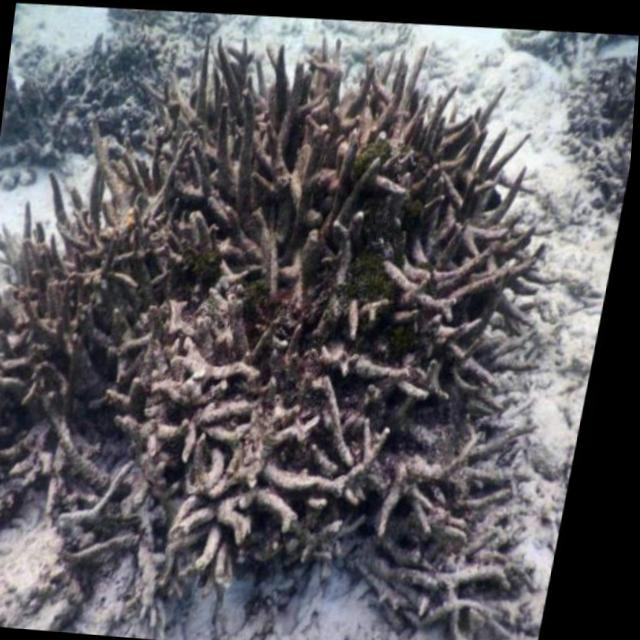Dead Coral: (0, 5, 602, 632)
